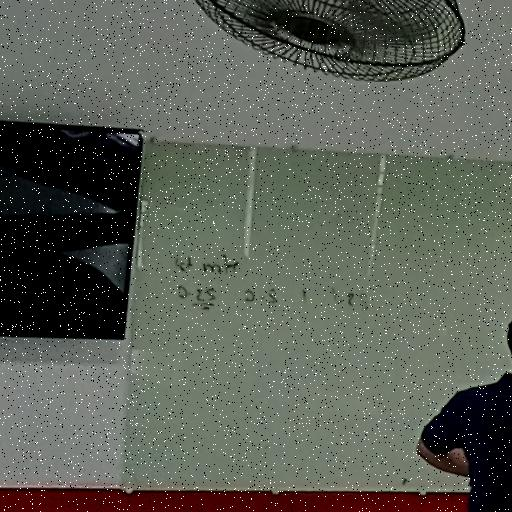Fan: (180, 0, 481, 81)
